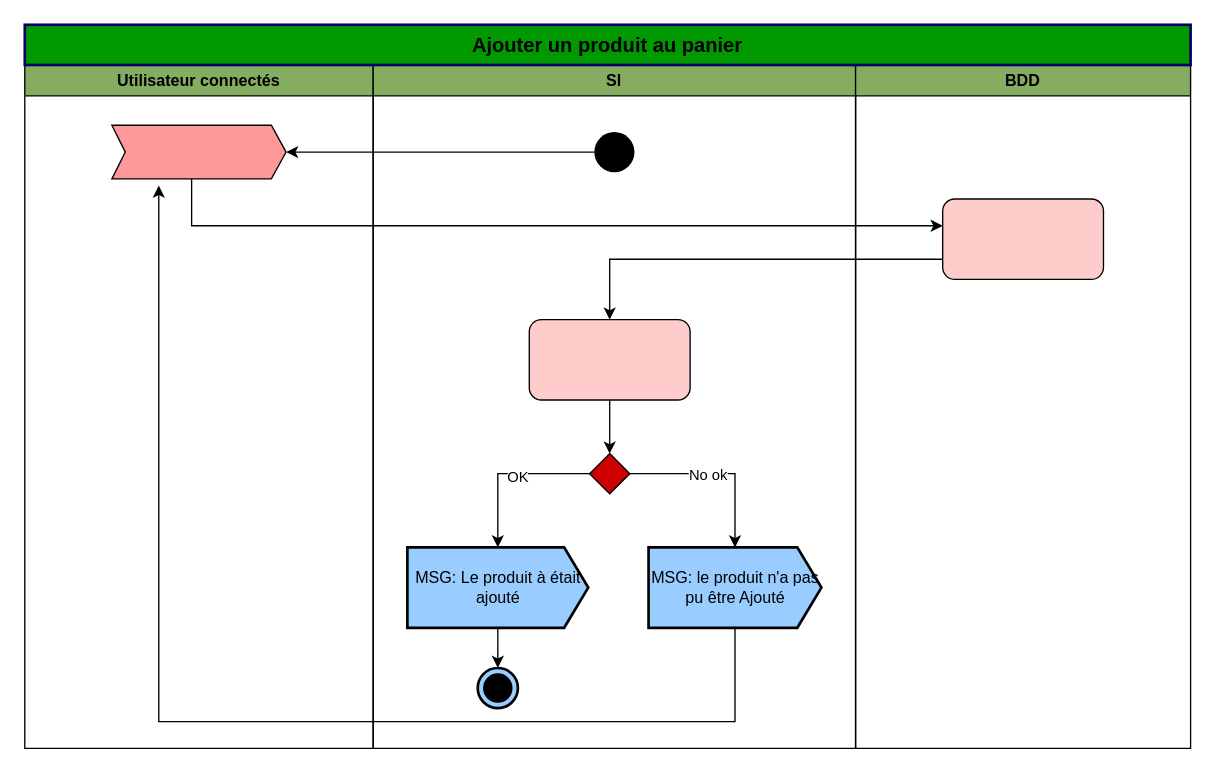
Image size: 1214x772. Some labels were removed from this diagram. Each missing label, with the centre of its shape:
Ajouter le produit du panier: [609,359]
Cliquer sur Ajouter un produit du panier: [198,151]
Executer requête d'ajout de produit: [1022,238]
